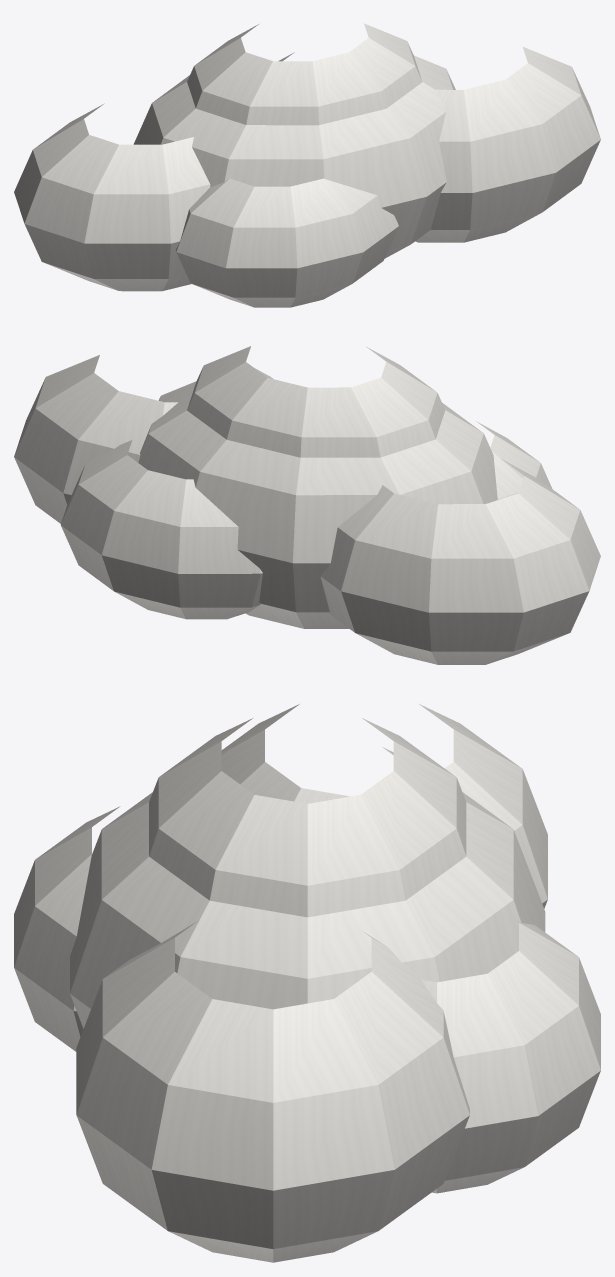
Rendered from cloud_cluster.glb.
3 views of the same model, one above another, from view 1: azimuth 30°, elevation 25°; view 2: azimuth 150°, elevation 25°; view 3: azimuth 270°, elevation 25° (orthographic). The views are drawn at different scales.
Visible parts, largest first — view 1: cloud_cluster; view 2: cloud_cluster; view 3: cloud_cluster.
Part boxes in pixels (x1=…): cloud_cluster: x1=14, y1=23, x2=600, y2=307; cloud_cluster: x1=14, y1=346, x2=600, y2=664; cloud_cluster: x1=14, y1=703, x2=600, y2=1262.
Size of the model in its own units: 5.99 by 2.5 by 3.4.
Materials: 1 (1 with a texture image).
